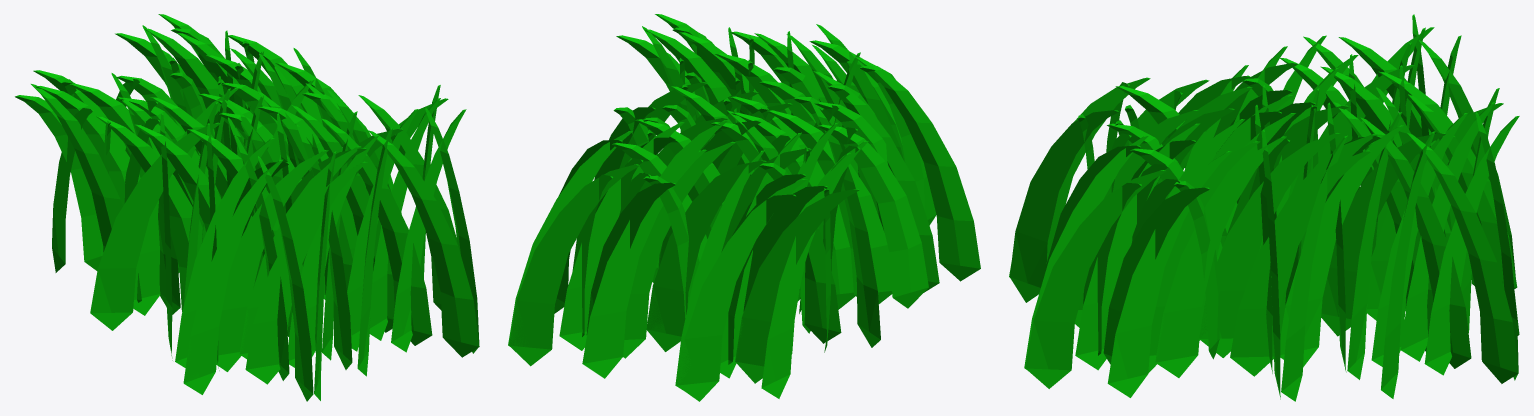
The model's file is Grass.fbx.
The picture shows the model from 3 angles, left to right: view 1: azimuth 30°, elevation 25°; view 2: azimuth 150°, elevation 25°; view 3: azimuth 270°, elevation 25°; orthographic projection. The views are drawn at different scales.
Parts seen in each view (by area): view 1: Plane.002; view 2: Plane.002; view 3: Plane.002.
Part boxes in pixels (box(x1,y1,x2,y2)): Plane.002: box(15, 14, 479, 401); Plane.002: box(508, 14, 980, 401); Plane.002: box(1009, 14, 1519, 401).
Size of the model in its own units: 170 by 209 by 99.91.
